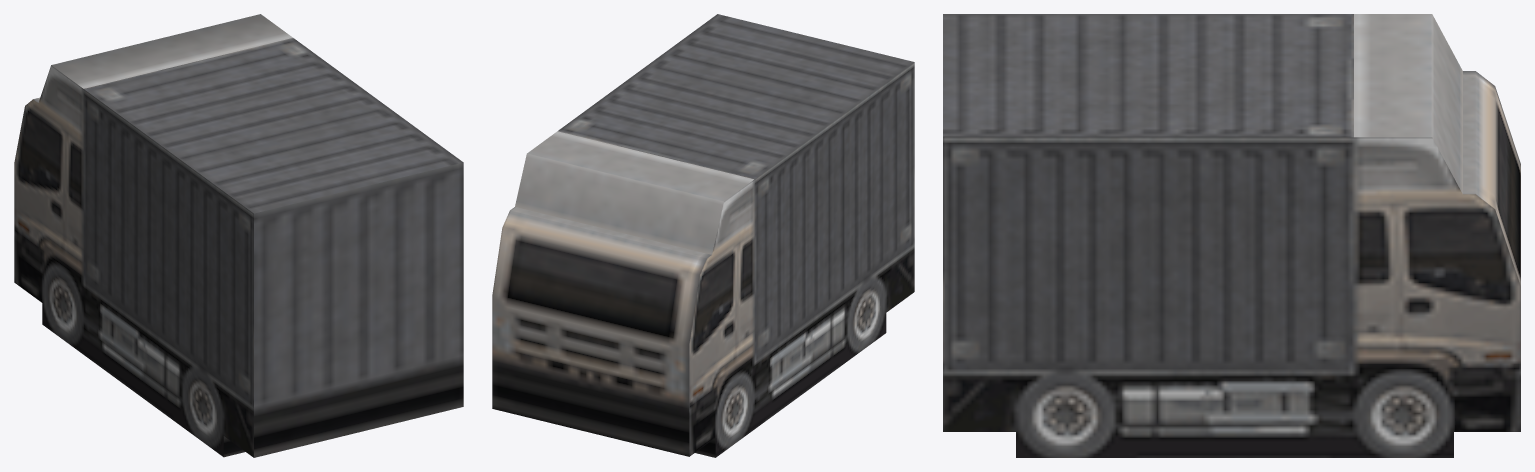
The model's file is truck_grey.fbx.
3 renders of one model, left to right at view 1: azimuth 30°, elevation 25°; view 2: azimuth 150°, elevation 25°; view 3: azimuth 270°, elevation 25°, orthographic. The views are drawn at different scales.
Parts seen in each view (by area): view 1: truck_grey; view 2: truck_grey; view 3: truck_grey.
Part boxes in pixels (x1,y1,x2,y2): truck_grey: [14, 14, 463, 457]; truck_grey: [492, 14, 914, 457]; truck_grey: [943, 14, 1520, 457].
Size of the model in its own units: 8.3 by 10.06 by 16.43.
